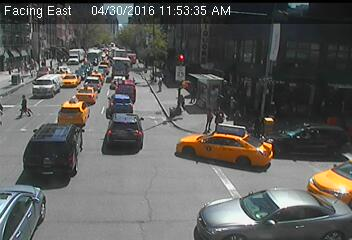neg: (122, 156, 148, 190), (260, 35, 282, 64), (288, 112, 307, 137), (95, 28, 113, 53), (19, 130, 36, 153), (188, 32, 205, 55), (126, 34, 143, 56), (13, 185, 29, 207), (327, 154, 342, 175), (172, 161, 186, 180), (72, 42, 86, 61), (115, 83, 128, 101), (126, 120, 139, 137), (69, 100, 82, 117), (50, 136, 63, 153), (44, 54, 56, 71), (171, 58, 179, 70)
pos: (12, 91, 35, 122), (200, 108, 217, 131), (209, 107, 225, 128), (151, 74, 166, 93), (186, 83, 200, 102)
